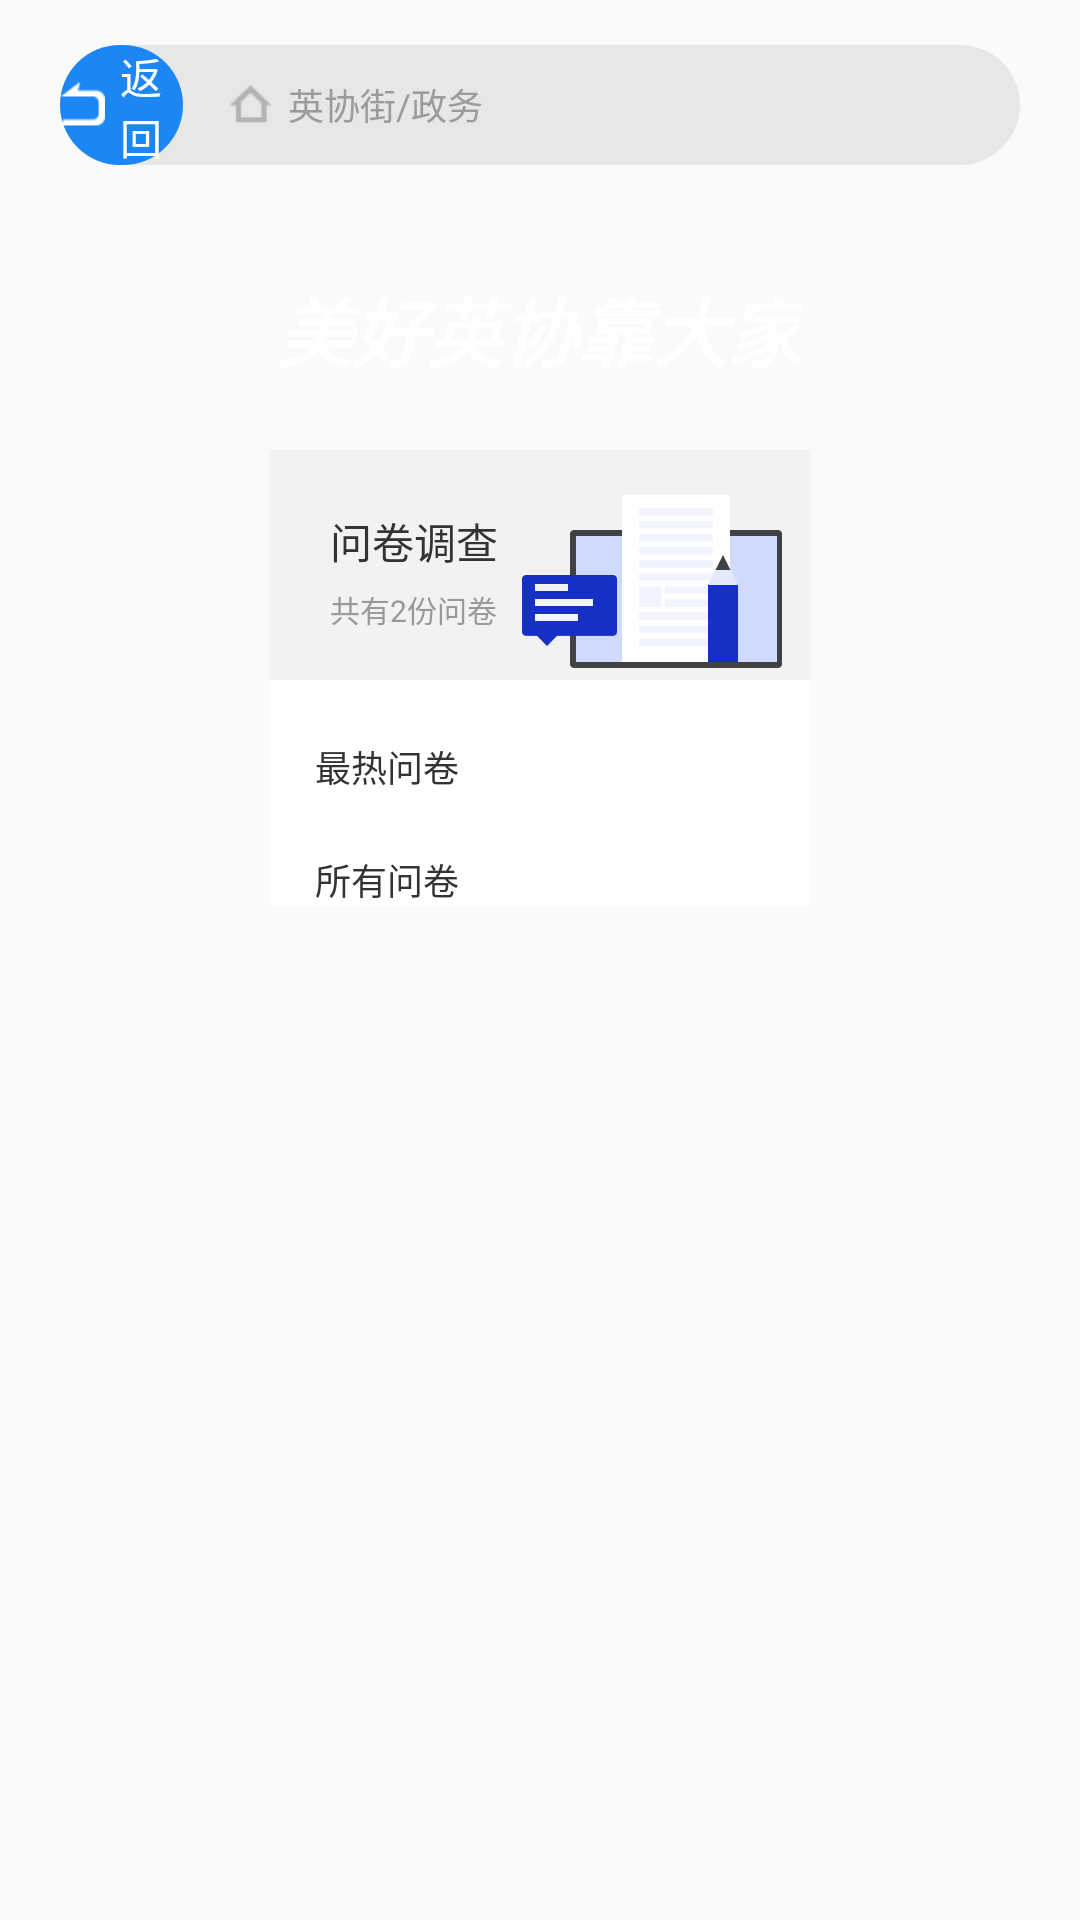

Screen size 1080px x 1920px. Icon name, then its center in pixels as point (x, y):
crumb home: point (250, 104)
